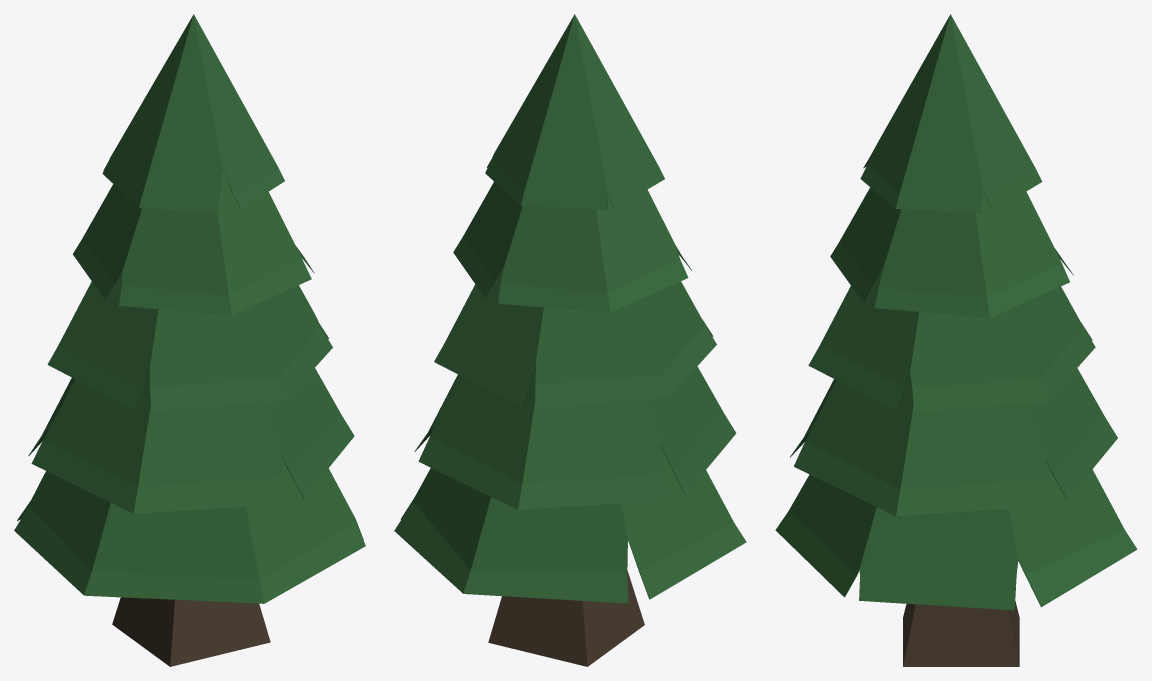
Rendered from PineTree1.fbx.
The picture shows the model from 3 angles, left to right: view 1: azimuth 30°, elevation 25°; view 2: azimuth 150°, elevation 25°; view 3: azimuth 270°, elevation 25°; orthographic projection.
Parts seen in each view (by area): view 1: PineTree1Foliage, PineTree1; view 2: PineTree1Foliage, PineTree1; view 3: PineTree1Foliage, PineTree1.
Boxes of the visible parts, x1=… form: PineTree1Foliage: x1=14, y1=14, x2=365, y2=603; PineTree1: x1=112, y1=53, x2=270, y2=666; PineTree1Foliage: x1=394, y1=14, x2=746, y2=603; PineTree1: x1=488, y1=570, x2=644, y2=666; PineTree1Foliage: x1=775, y1=14, x2=1137, y2=610; PineTree1: x1=903, y1=601, x2=1019, y2=666.
Size of the model in its own units: 4.49 by 9.35 by 4.89.
